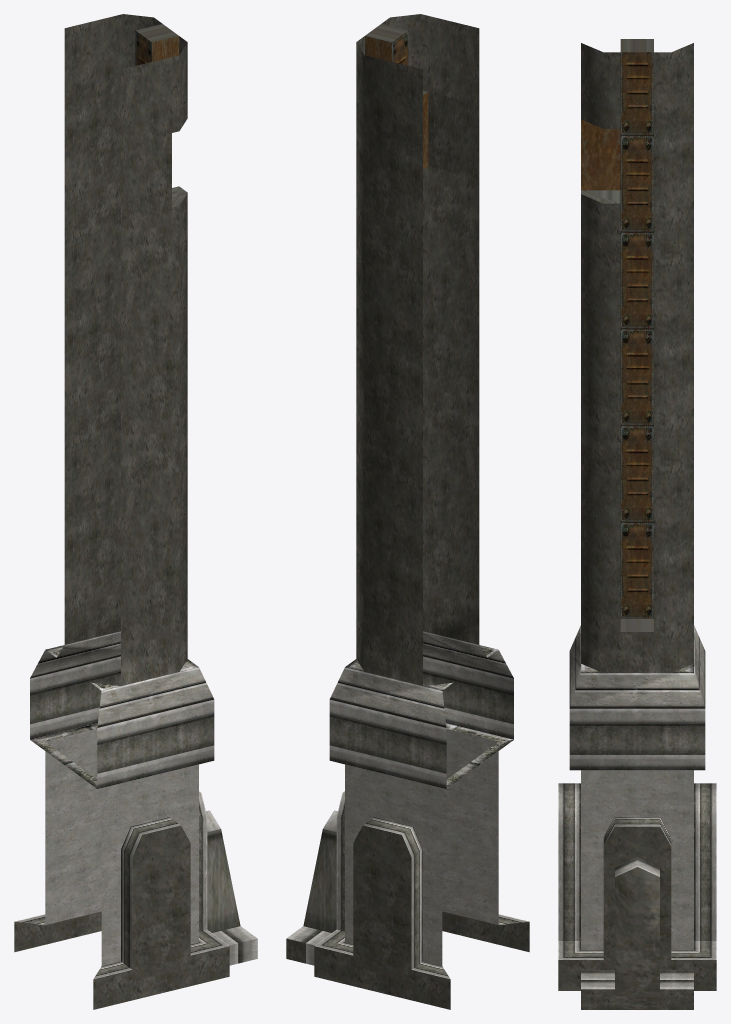
File: DWARF_PALACE_ARKENSTON_BUCKET_COLUMN01.fbx
The picture shows the model from 3 angles, left to right: view 1: azimuth 30°, elevation 25°; view 2: azimuth 150°, elevation 25°; view 3: azimuth 270°, elevation 25°; orthographic projection.
Parts seen in each view (by area): view 1: DWARF_PALACE_ARKENSTON_BUCKET_COLUMN01; view 2: DWARF_PALACE_ARKENSTON_BUCKET_COLUMN01; view 3: DWARF_PALACE_ARKENSTON_BUCKET_COLUMN01.
Boxes of the visible parts, x1=… form: DWARF_PALACE_ARKENSTON_BUCKET_COLUMN01: x1=14, y1=14, x2=257, y2=1009; DWARF_PALACE_ARKENSTON_BUCKET_COLUMN01: x1=286, y1=14, x2=529, y2=1009; DWARF_PALACE_ARKENSTON_BUCKET_COLUMN01: x1=558, y1=39, x2=716, y2=1009.
Size of the model in its own units: 18000 by 90446 by 14000.
Materials: 7 (7 with a texture image).
